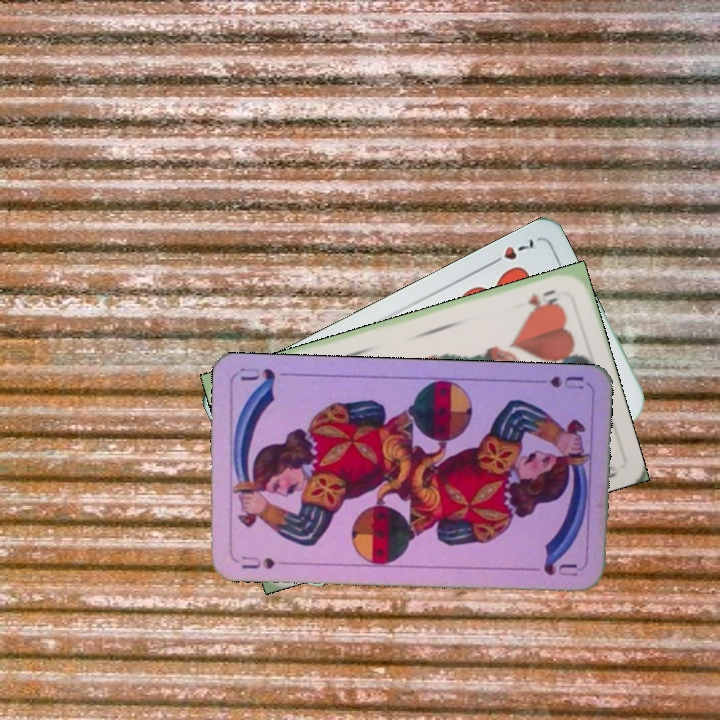H7: (484, 235, 537, 269)
HO: (524, 285, 561, 311)
SU: (527, 372, 586, 392), (231, 552, 290, 572)
